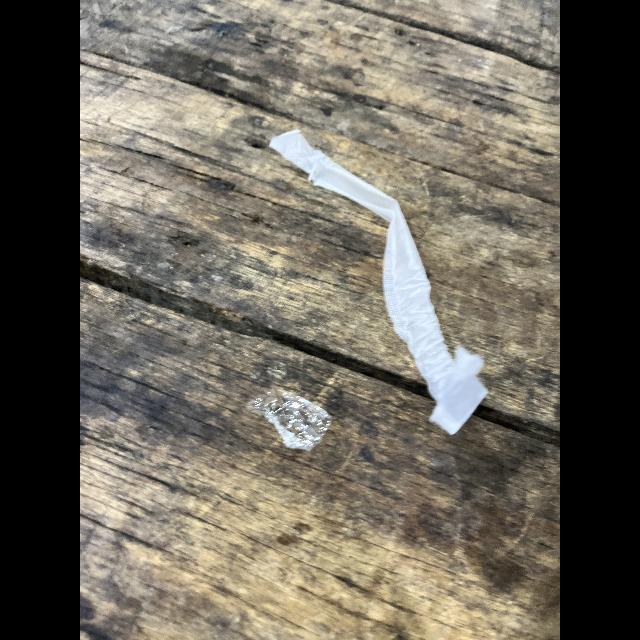scrap_plastic: (284, 113, 496, 441), (246, 379, 340, 455)
